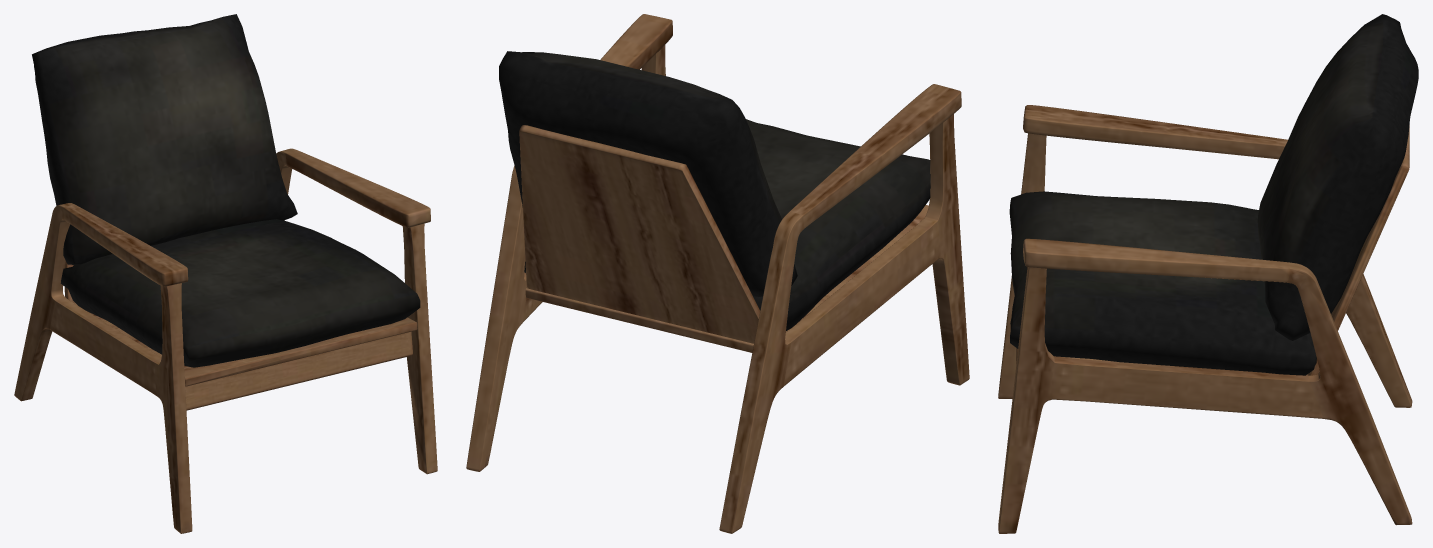
The model's file is modern_arm_chair_01.glb.
The picture shows the model from 3 angles, left to right: view 1: azimuth 30°, elevation 25°; view 2: azimuth 150°, elevation 25°; view 3: azimuth 270°, elevation 25°; orthographic projection. The views are drawn at different scales.
Visible parts, largest first — view 1: modern_arm_chair_01; view 2: modern_arm_chair_01; view 3: modern_arm_chair_01.
Boxes of the visible parts, x1,y1,x2,y2 form: modern_arm_chair_01: (14, 14, 437, 533); modern_arm_chair_01: (466, 14, 969, 533); modern_arm_chair_01: (998, 14, 1418, 533).
Bounding box in the file's own units: 0.8203 × 1.02 × 0.9865.
Materials: 2 (2 with a texture image).
